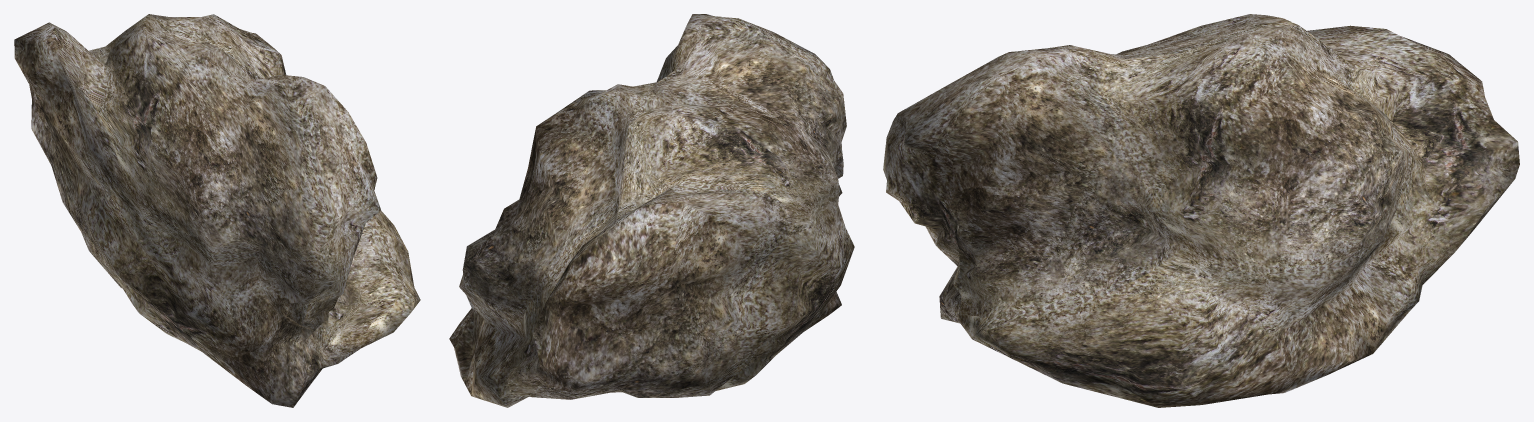
Rendered from Asteroid_12_L1.FBX.
The picture shows the model from 3 angles, left to right: view 1: azimuth 30°, elevation 25°; view 2: azimuth 150°, elevation 25°; view 3: azimuth 270°, elevation 25°; orthographic projection. The views are drawn at different scales.
Visible parts, largest first — view 1: Asteroid; view 2: Asteroid; view 3: Asteroid.
Part boxes in pixels (x1,y1,x2,y2): Asteroid: (14, 14, 420, 407); Asteroid: (449, 14, 854, 407); Asteroid: (883, 14, 1519, 407).
Size of the model in its own units: 1.79 by 1.78 by 3.31.
